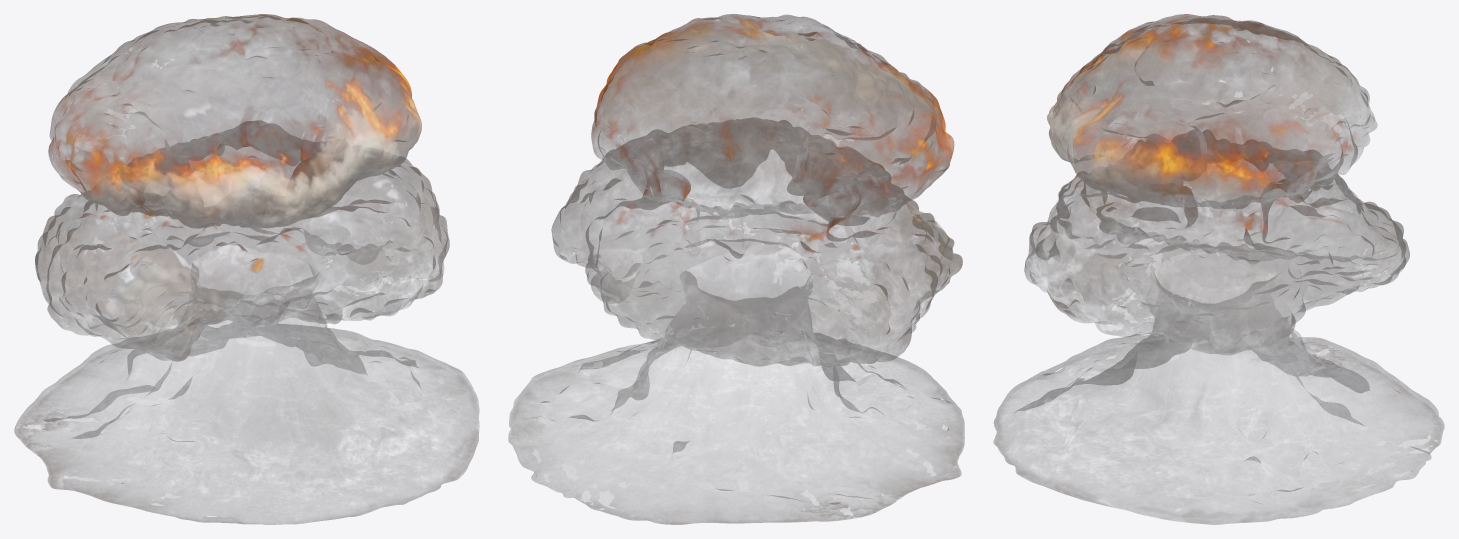
The picture shows the model from 3 angles, left to right: view 1: azimuth 30°, elevation 25°; view 2: azimuth 150°, elevation 25°; view 3: azimuth 270°, elevation 25°; orthographic projection. The views are drawn at different scales.
Parts seen in each view (by area): view 1: Object_4, Object_5, Object_7, Object_6, Object_8; view 2: Object_7, Object_5, Object_6, Object_4, Object_8; view 3: Object_4, Object_5, Object_6, Object_7, Object_8.
Boxes of the visible parts, bbox=[...] form: Object_4: bbox=[15, 20, 478, 524]; Object_5: bbox=[35, 14, 447, 396]; Object_7: bbox=[14, 18, 415, 498]; Object_6: bbox=[35, 28, 478, 434]; Object_8: bbox=[51, 15, 478, 506]; Object_7: bbox=[509, 64, 962, 524]; Object_5: bbox=[565, 14, 961, 381]; Object_6: bbox=[509, 126, 941, 524]; Object_4: bbox=[527, 14, 964, 521]; Object_8: bbox=[581, 45, 964, 479]; Object_4: bbox=[993, 14, 1365, 522]; Object_5: bbox=[1097, 14, 1363, 423]; Object_6: bbox=[1098, 60, 1443, 524]; Object_7: bbox=[1099, 18, 1444, 504]; Object_8: bbox=[1098, 40, 1340, 520].
Bounding box in the file's own units: 2.01 × 1.8 × 1.94.
Materials: 1 (1 with a texture image).
